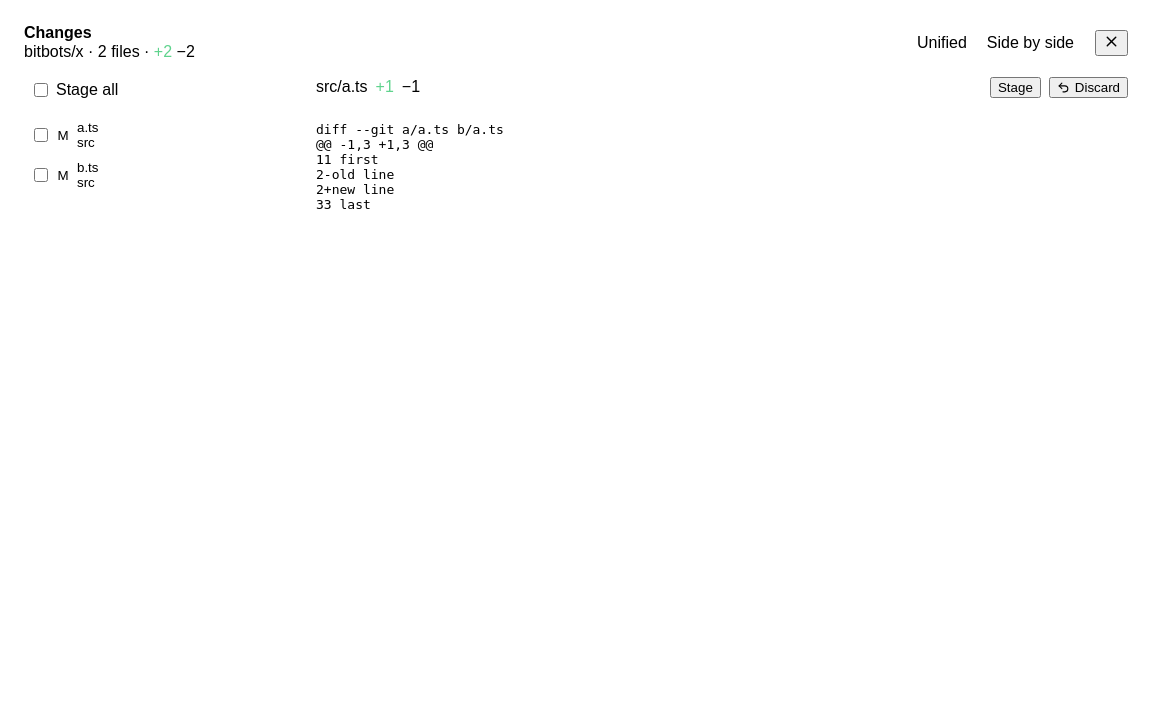
Test: ChangesView › stages a file and shows the list the daemon sends back
Click the button "Stage".
click(1015, 87)  # box [990,76,1041,98]
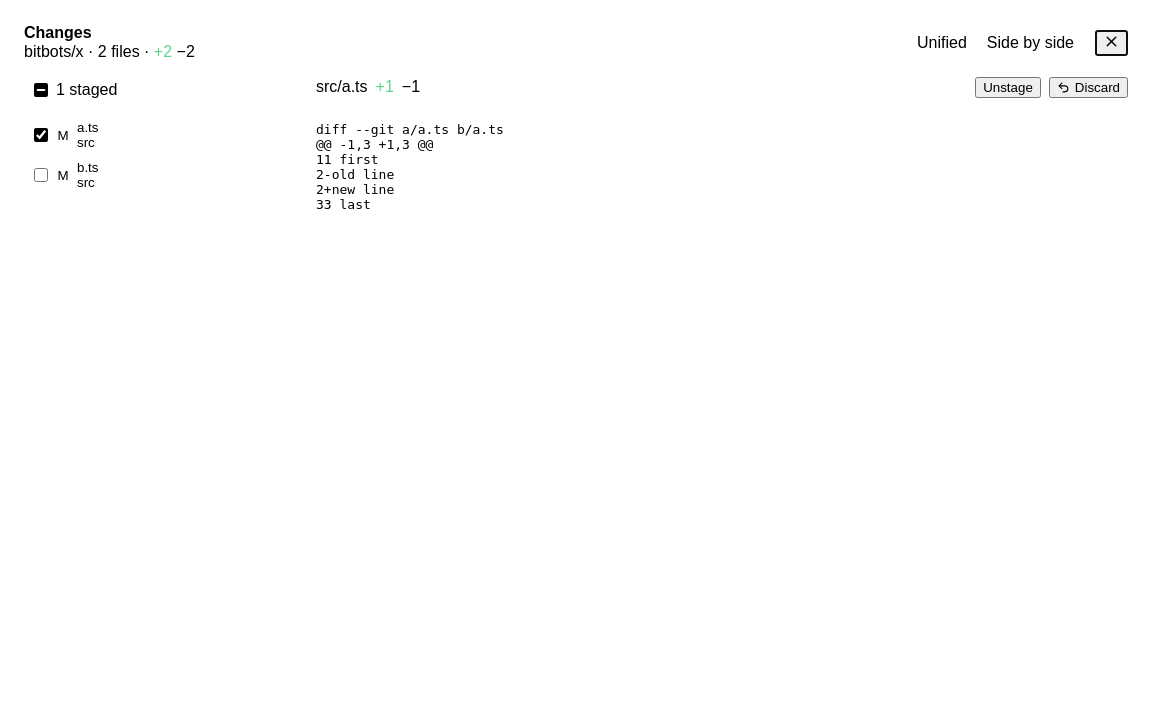
Expected: the button "Unstage" is shown, [975,76,1041,98]
Expected: the label with class "changes-stage-all" reads "1 staged", [56,81,117,98]
